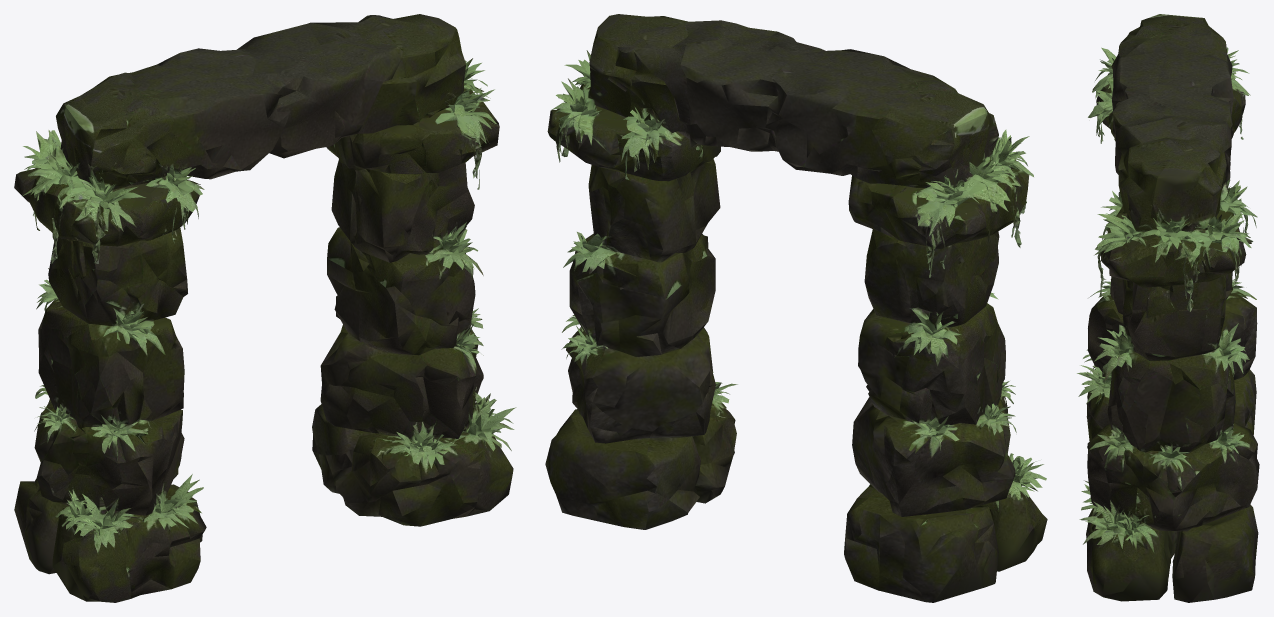
Rendered from sp_m_grotto.glb.
The picture shows the model from 3 angles, left to right: view 1: azimuth 30°, elevation 25°; view 2: azimuth 150°, elevation 25°; view 3: azimuth 270°, elevation 25°; orthographic projection. The views are drawn at different scales.
Visible parts, largest first — view 1: Mesh_0; view 2: Mesh_0; view 3: Mesh_0.
Boxes of the visible parts, x1,y1,x2,y2 form: Mesh_0: [14, 14, 516, 602]; Mesh_0: [545, 14, 1047, 602]; Mesh_0: [1077, 14, 1259, 602].
Bounding box in the file's own units: 1.89 × 1.86 × 0.7258.
Materials: 1 (1 with a texture image).
